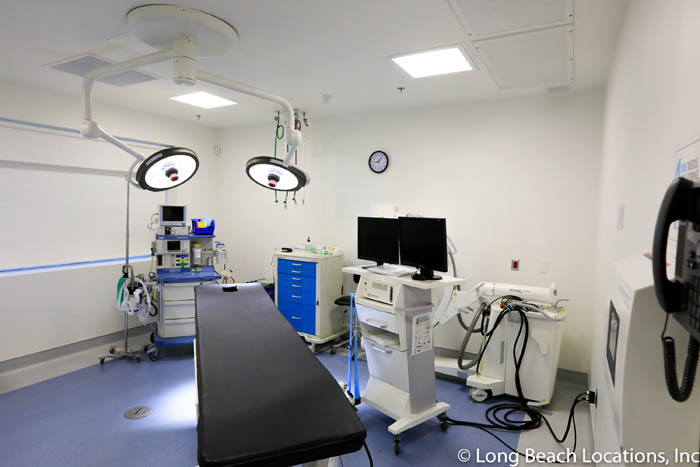bedside_monitor: (161, 206, 187, 226), (164, 241, 183, 252)
breathing_tube: (113, 272, 148, 313)
computer: (399, 216, 448, 274), (355, 216, 399, 267)
handle: (292, 315, 303, 320), (292, 294, 303, 299), (292, 277, 303, 282), (292, 283, 303, 288), (292, 269, 303, 274), (292, 262, 303, 267)
iv_pole: (116, 174, 143, 362)
medical_drawer: (351, 274, 441, 443), (276, 253, 345, 347), (149, 268, 222, 337)
operating_bed: (190, 282, 368, 467)
surgical_light: (137, 146, 199, 193), (244, 156, 310, 195)
telephone: (650, 176, 700, 404)
